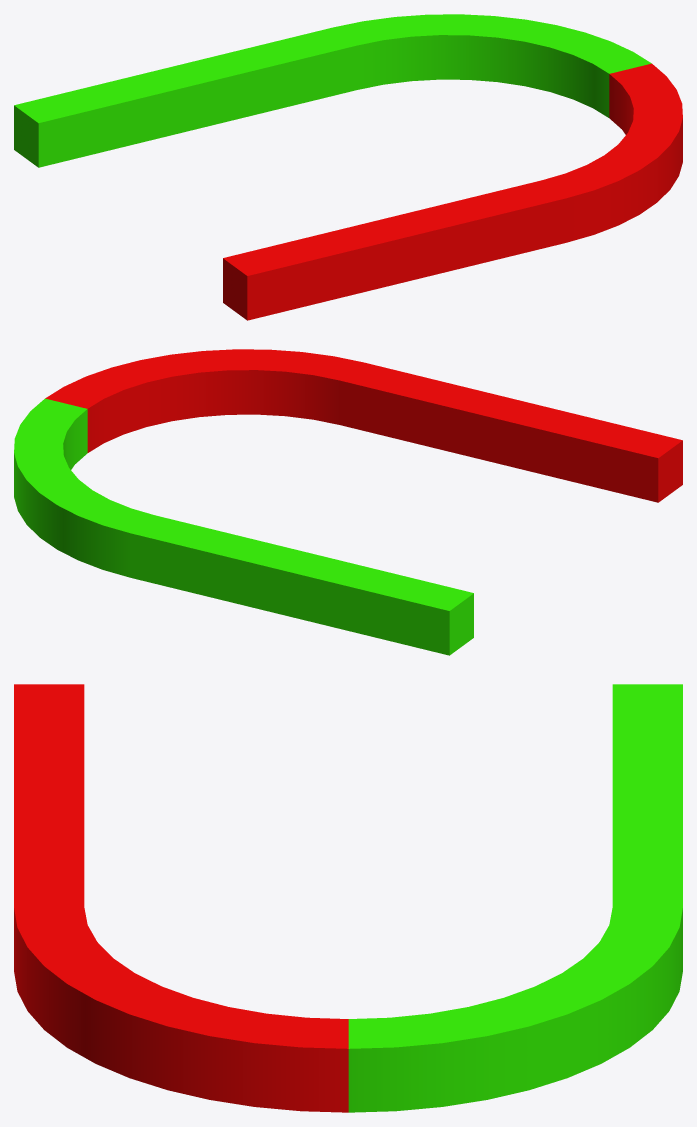
File: Hufeisen-Magnet.gltf
3 renders of one model, top to bottom at view 1: azimuth 30°, elevation 25°; view 2: azimuth 150°, elevation 25°; view 3: azimuth 270°, elevation 25°, orthographic. The views are drawn at different scales.
Parts seen in each view (by area): view 1: Body2, Body1; view 2: Body1, Body2; view 3: Body1, Body2.
Boxes of the visible parts, x1,y1,x2,y2 form: Body2: (14,14,651,167); Body1: (223,63,682,320); Body1: (45,349,682,502); Body2: (14,398,473,655); Body1: (14,684,348,1112); Body2: (348,684,682,1112).
Bounding box in the file's own units: 0.245 × 0.02 × 0.19.
